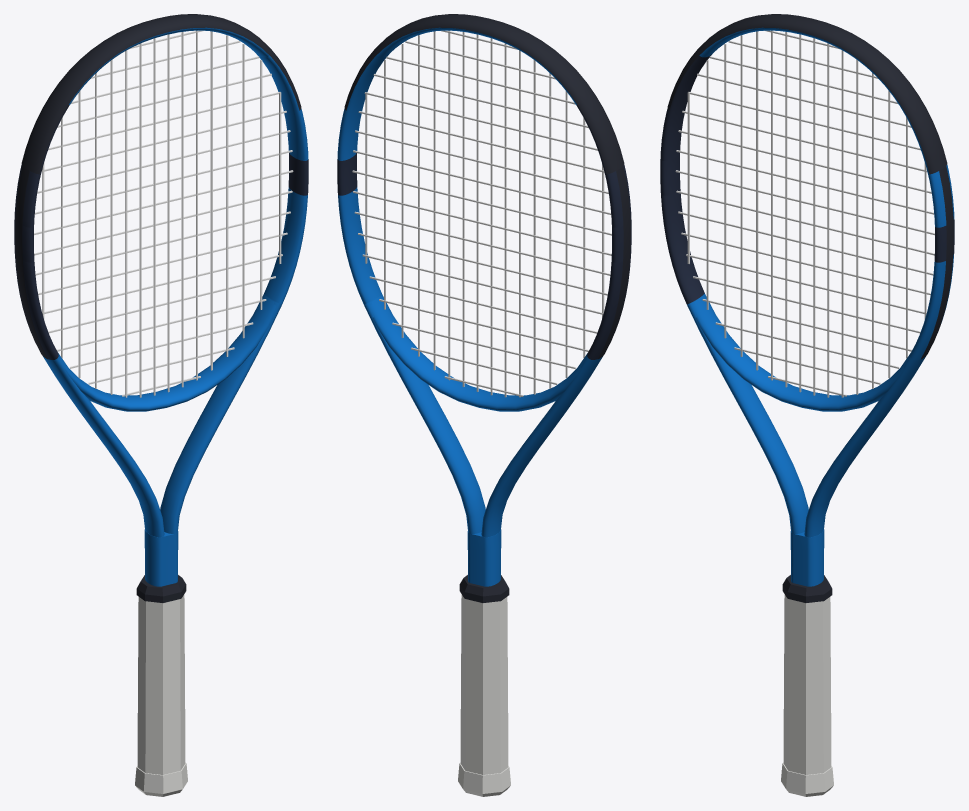
The model's file is dunlop-fx-500-lite-2023.glb.
The picture shows the model from 3 angles, left to right: view 1: azimuth 30°, elevation 25°; view 2: azimuth 150°, elevation 25°; view 3: azimuth 330°, elevation 25°; orthographic projection.
Parts seen in each view (by area): view 1: frame, strings_mains, strings_crosses, grip, bumper, grommets, butt_cap, collar; view 2: frame, strings_mains, strings_crosses, grip, bumper, grommets, butt_cap, collar; view 3: frame, strings_mains, strings_crosses, grip, bumper, grommets, butt_cap, collar.
Boxes of the visible parts, x1=… form: frame: x1=14, y1=27, x2=308, y2=586; strings_mains: x1=42, y1=30, x2=281, y2=397; strings_crosses: x1=34, y1=30, x2=293, y2=396; grip: x1=137, y1=594, x2=185, y2=774; bumper: x1=21, y1=14, x2=301, y2=174; grommets: x1=15, y1=166, x2=47, y2=359; butt_cap: x1=135, y1=762, x2=187, y2=796; collar: x1=136, y1=575, x2=186, y2=602; frame: x1=337, y1=27, x2=631, y2=586; strings_mains: x1=365, y1=30, x2=604, y2=397; strings_crosses: x1=352, y1=30, x2=611, y2=396; grip: x1=460, y1=594, x2=508, y2=774; bumper: x1=344, y1=14, x2=624, y2=174; grommets: x1=598, y1=166, x2=630, y2=359; butt_cap: x1=458, y1=762, x2=510, y2=796; collar: x1=459, y1=575, x2=509, y2=602; frame: x1=660, y1=27, x2=954, y2=586; strings_mains: x1=687, y1=30, x2=926, y2=397; strings_crosses: x1=675, y1=30, x2=934, y2=396; grip: x1=783, y1=594, x2=831, y2=774; bumper: x1=667, y1=14, x2=947, y2=174; grommets: x1=921, y1=166, x2=953, y2=359; butt_cap: x1=781, y1=762, x2=833, y2=796; collar: x1=782, y1=575, x2=832, y2=602.
Size of the model in its own units: 0.2687 by 0.6861 by 0.0377.
